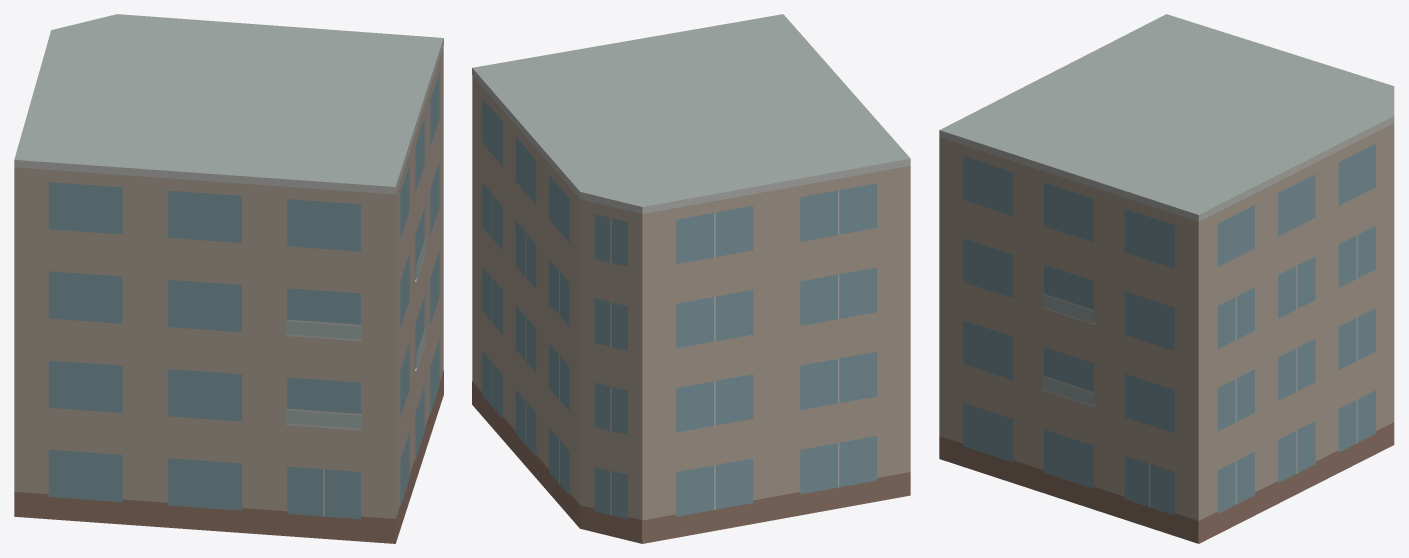
Rendered from survey-upis-32561107.glb.
3 views of the same model, side by side, from view 1: azimuth 30°, elevation 25°; view 2: azimuth 150°, elevation 25°; view 3: azimuth 270°, elevation 25° (orthographic). The views are drawn at different scales.
Parts seen in each view (by area): view 1: survey-upis-32561107.tmp; view 2: survey-upis-32561107.tmp; view 3: survey-upis-32561107.tmp.
Boxes of the visible parts, box(x1,y1,x2,y2) form: survey-upis-32561107.tmp: box(14, 14, 443, 543); survey-upis-32561107.tmp: box(472, 14, 910, 543); survey-upis-32561107.tmp: box(939, 14, 1394, 543).
Size of the model in its own units: 15.22 by 11.6 by 14.56.
